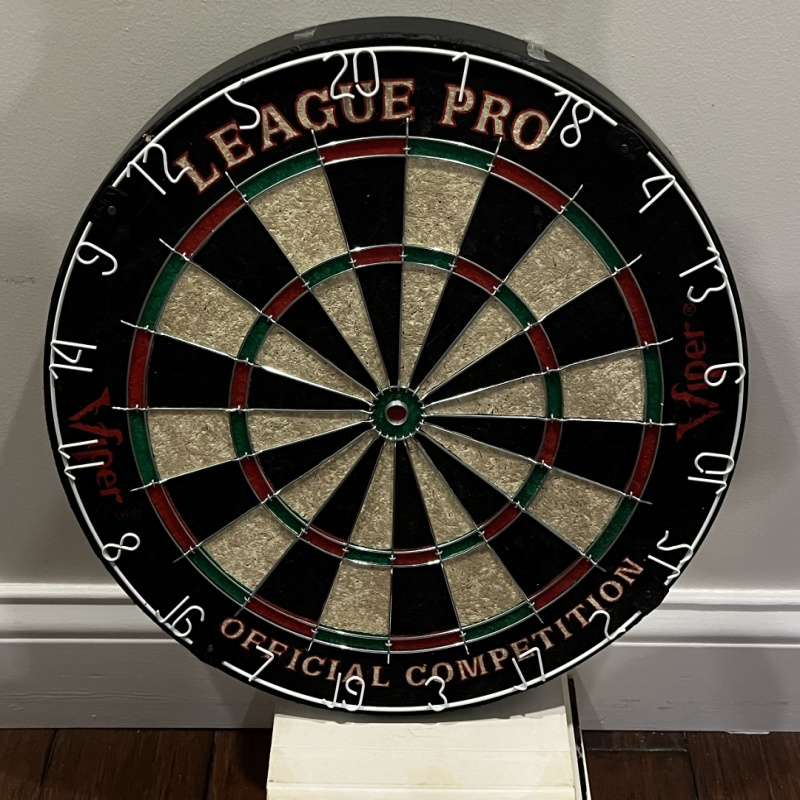eleven: (55, 439, 109, 480)
six: (704, 361, 746, 389)
three: (421, 673, 450, 712)
twenty: (320, 49, 386, 100)
